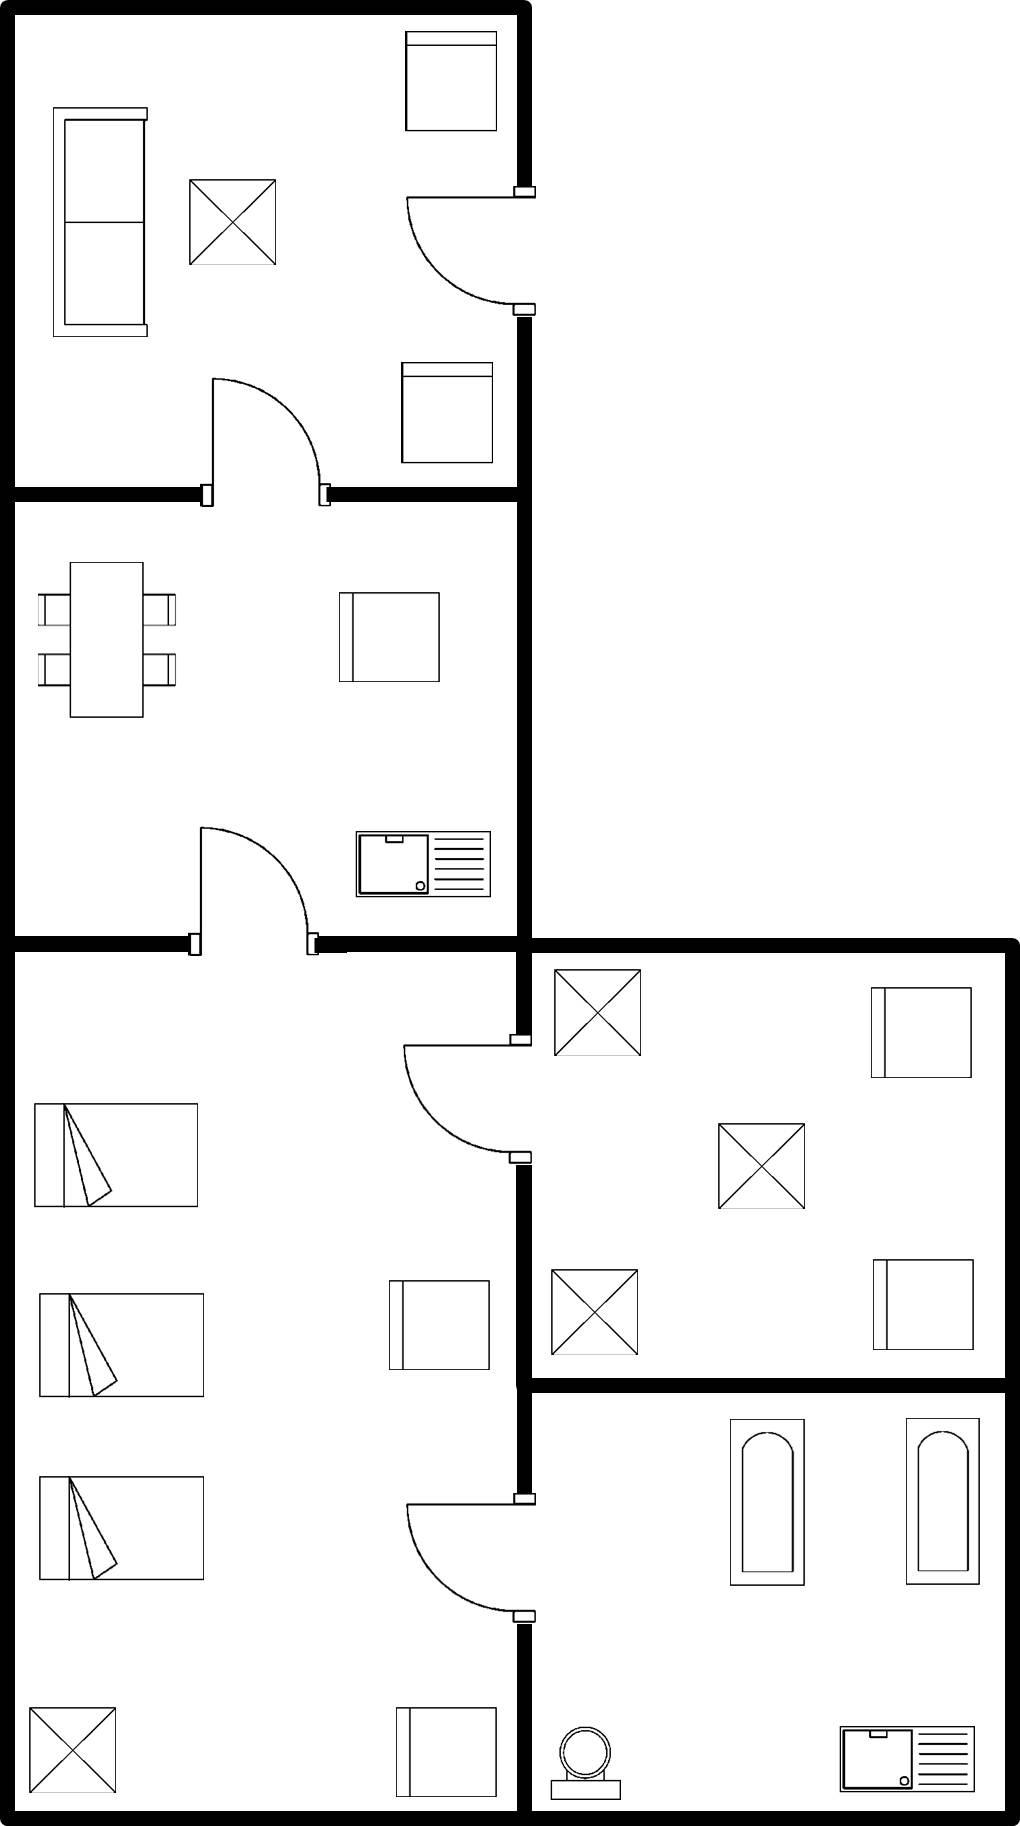bed: (23, 1092, 213, 1222), (28, 1465, 215, 1590), (26, 1283, 210, 1408)
dining_table: (26, 551, 192, 731)
sink: (827, 1713, 987, 1803), (343, 820, 499, 910)
sofa: (40, 90, 161, 352)
toilet: (543, 1719, 629, 1810)
tub: (709, 1408, 817, 1596), (893, 1410, 995, 1594)
